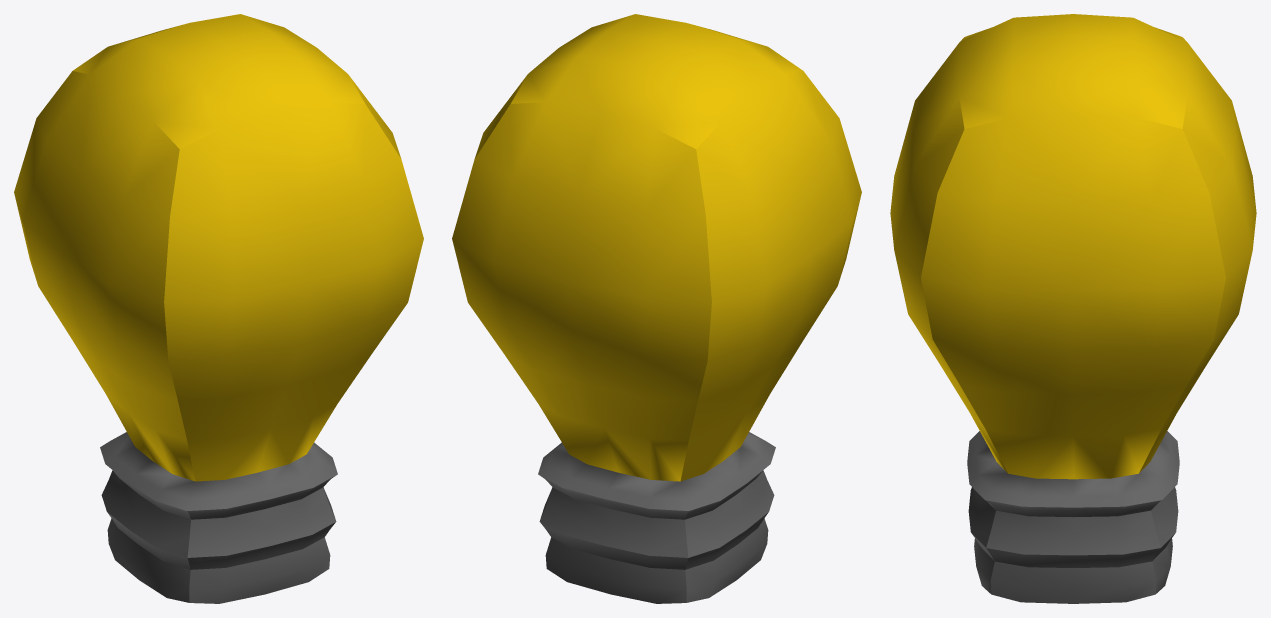
Rendered from ThomasEdisonBulb.fbx.
3 views of the same model, side by side, from view 1: azimuth 30°, elevation 25°; view 2: azimuth 150°, elevation 25°; view 3: azimuth 270°, elevation 25° (orthographic).
Parts seen in each view (by area): view 1: Cube.022; view 2: Cube.022; view 3: Cube.022.
Part boxes in pixels (box(x1,y1,x2,y2)): Cube.022: box(14, 14, 423, 603); Cube.022: box(452, 14, 861, 603); Cube.022: box(890, 14, 1256, 603).
Bounding box in the file's own units: 111 × 180 × 111.
